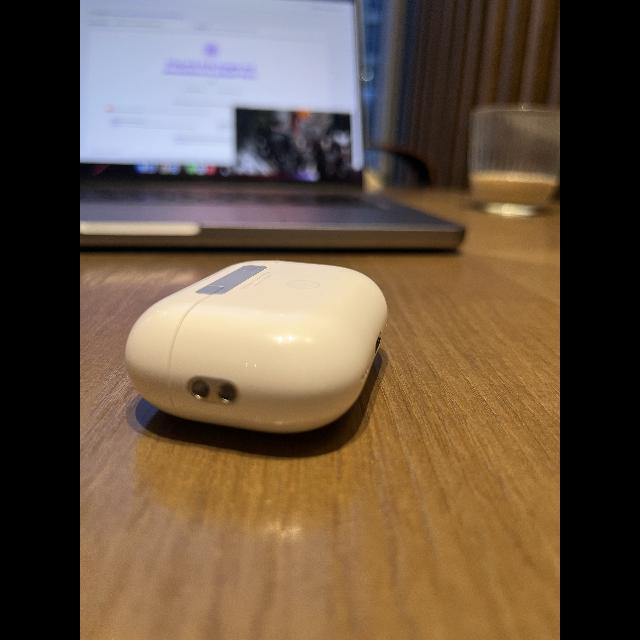AirPods Pro: (118, 256, 392, 456)
